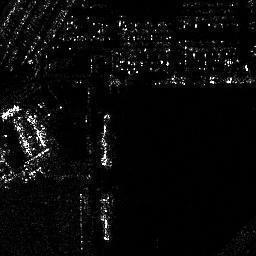ship: (99, 113, 117, 170), (98, 194, 117, 246)
